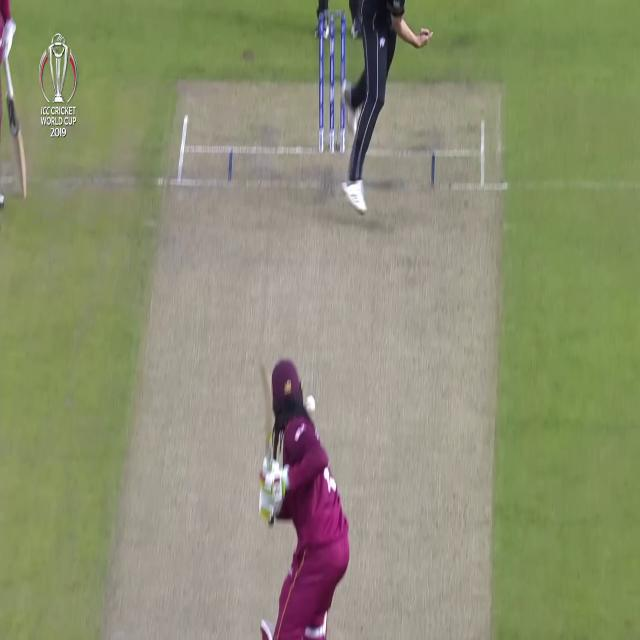ball: (302, 394, 317, 416)
